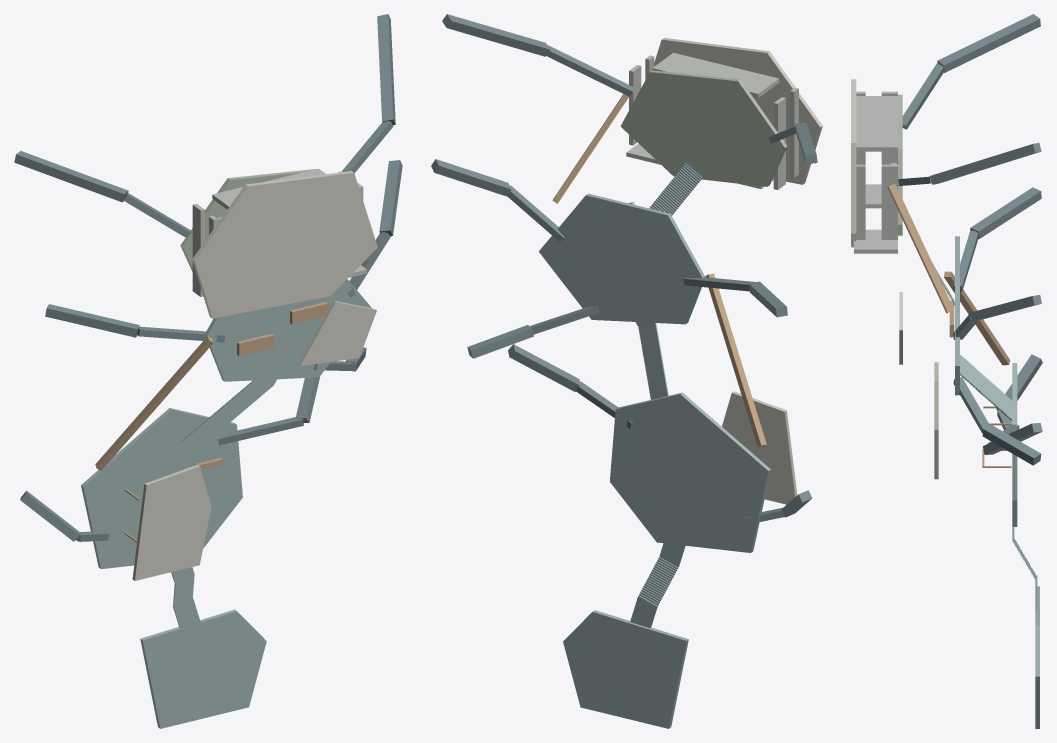
Rendered from broken_landing.glb.
3 views of the same model, side by side, from view 1: azimuth 30°, elevation 25°; view 2: azimuth 150°, elevation 25°; view 3: azimuth 270°, elevation 25° (orthographic).
Parts seen in each view (by area): view 1: living_roof, maker_deck, arrival_terrace, research_deck, maker_weather_canopy, research_partial_daylight_shade, shared_maker_research_transfer, living_rib_0_upper, living_rib_1_upper, living_deck, research_rib_0_upper, research_rib_1_upper (+8 smaller); view 2: maker_deck, research_deck, living_deck, arrival_terrace, living_roof, maker_weather_canopy, living_rear, shared_maker_research_transfer, living_rib_1_upper, research_rib_1_upper, maker_rib_1_upper, living_rib_1_lower (+8 smaller); view 3: living_rear, living_rib_0_upper, shared_research_living_transfer, living_rib_1_upper, living_east_lower, research_rib_0_upper, living_roof, research_rib_2_upper, shared_maker_research_transfer, maker_deck, living_rib_0_lower, living_front_right (+11 smaller).
Boxes of the visible parts, x1,y1,x2,y2 form: living_roof: (192,171,377,318); maker_deck: (81,408,242,569); arrival_terrace: (140,609,266,728); research_deck: (205,279,371,381); maker_weather_canopy: (132,464,211,580); research_partial_daylight_shade: (298,300,376,366); shared_maker_research_transfer: (95,336,213,470); living_rib_0_upper: (14,151,128,202); living_rib_1_upper: (377,14,395,125); living_deck: (180,169,315,271); research_rib_0_upper: (45,304,139,337); research_rib_1_upper: (379,160,402,236); maker_deck: (610,392,770,552); research_deck: (539,193,705,324); living_deck: (620,70,787,186); arrival_terrace: (563,610,688,728); living_roof: (654,38,822,184); maker_weather_canopy: (722,391,797,504); living_rear: (652,53,779,97); shared_maker_research_transfer: (705,273,766,446); living_rib_1_upper: (442,14,550,56); research_rib_1_upper: (431,159,511,196); maker_rib_1_upper: (508,344,580,391); living_rib_1_lower: (546,45,634,96); living_rear: (856,96,897,151); living_rib_0_upper: (937,14,1040,72); shared_research_living_transfer: (887,183,954,313); living_rib_1_upper: (930,143,1041,184); living_east_lower: (881,164,897,239); research_rib_0_upper: (970,187,1041,238); living_roof: (851,79,856,247); research_rib_2_upper: (982,424,1041,465); shared_maker_research_transfer: (944,271,1009,365); maker_deck: (1012,363,1017,526); living_rib_0_lower: (902,63,943,129); living_front_right: (854,229,897,253).
Bounding box in the file's own units: 65.72 × 107 × 28.49.
